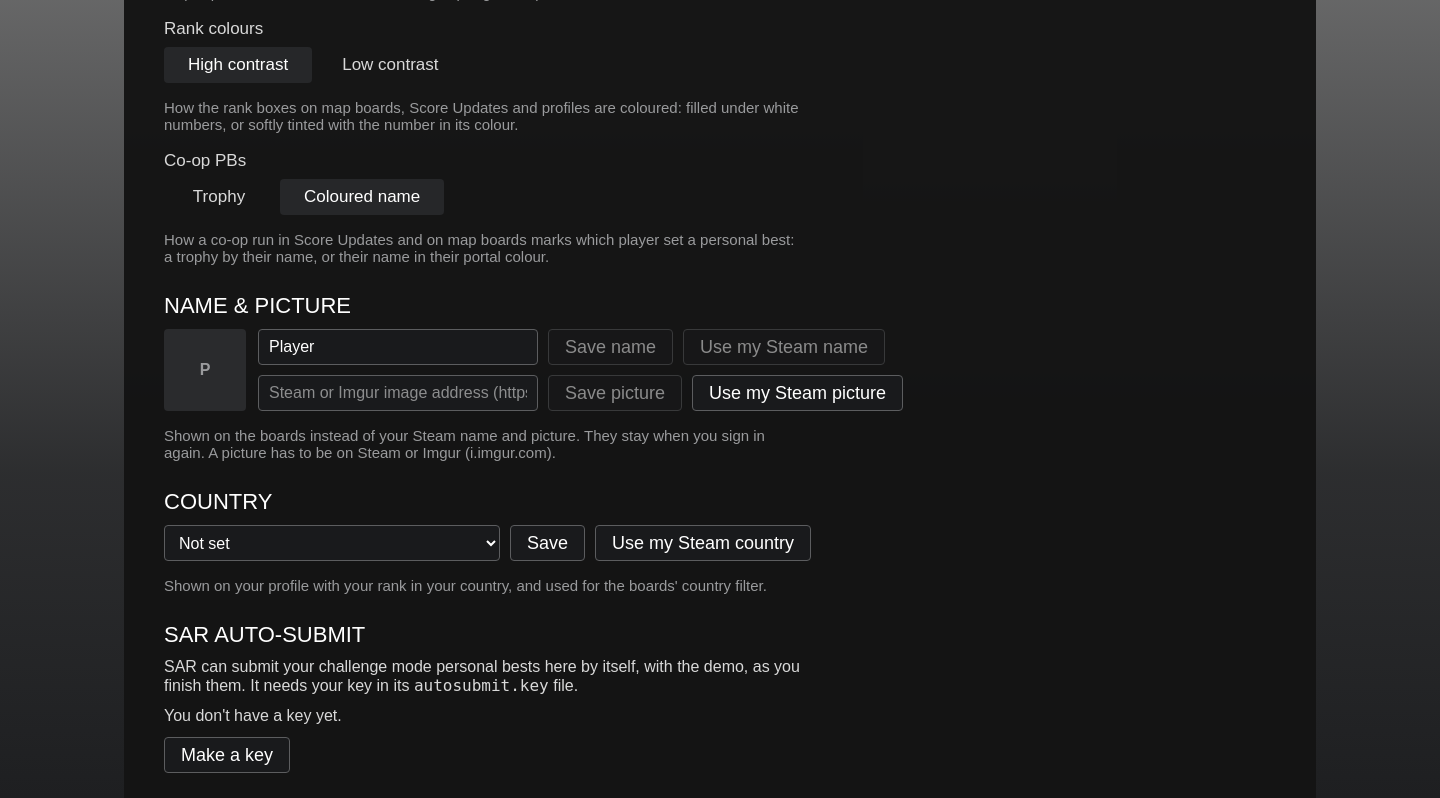
Test: Settings › sets the picture from an address or from Steam
(page scrolled)
In the field named "Picture address": (398, 393) [258,375,538,411], type "https://i.imgur.com/AbCd123.png"
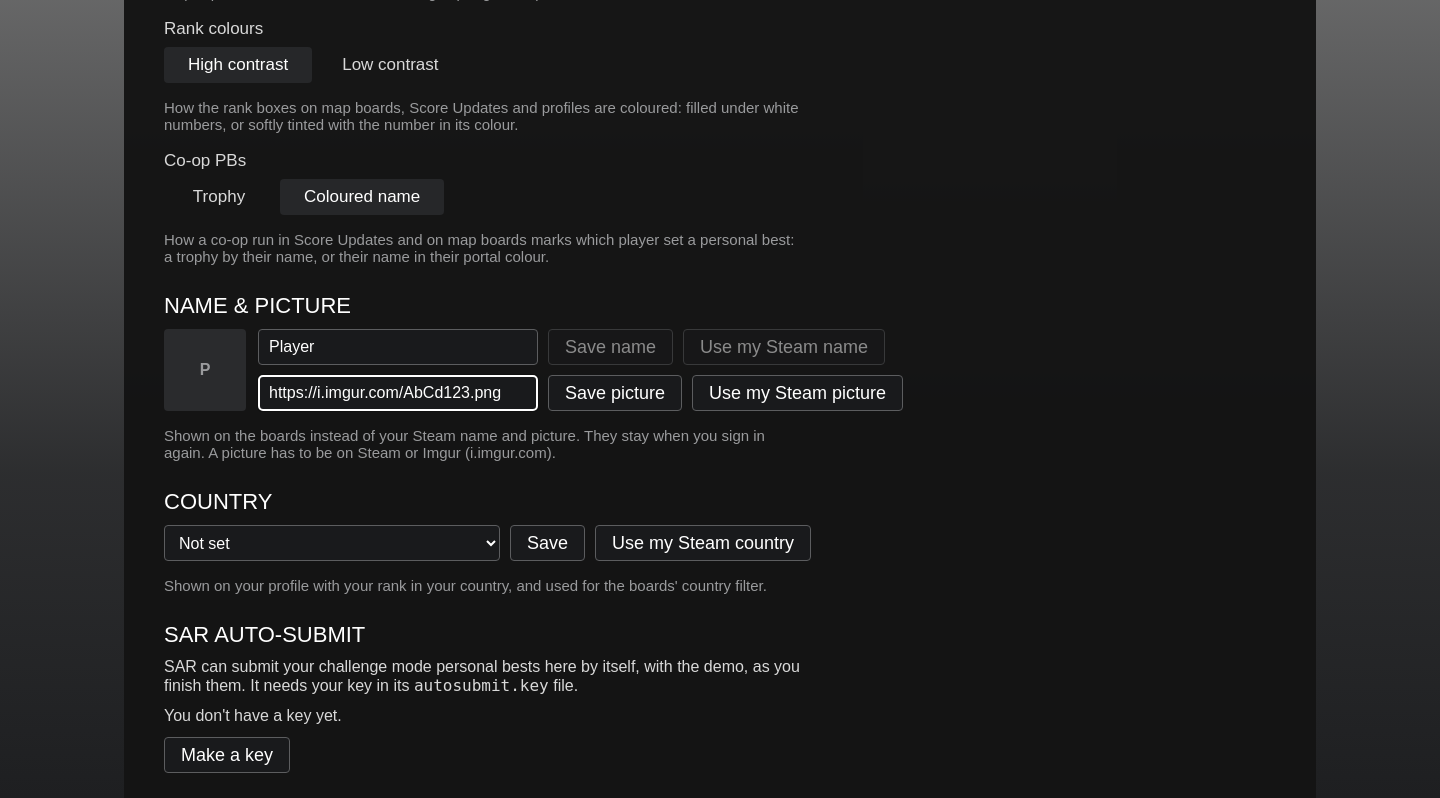
Click the button "Save picture": (615, 393) [548,375,682,411]
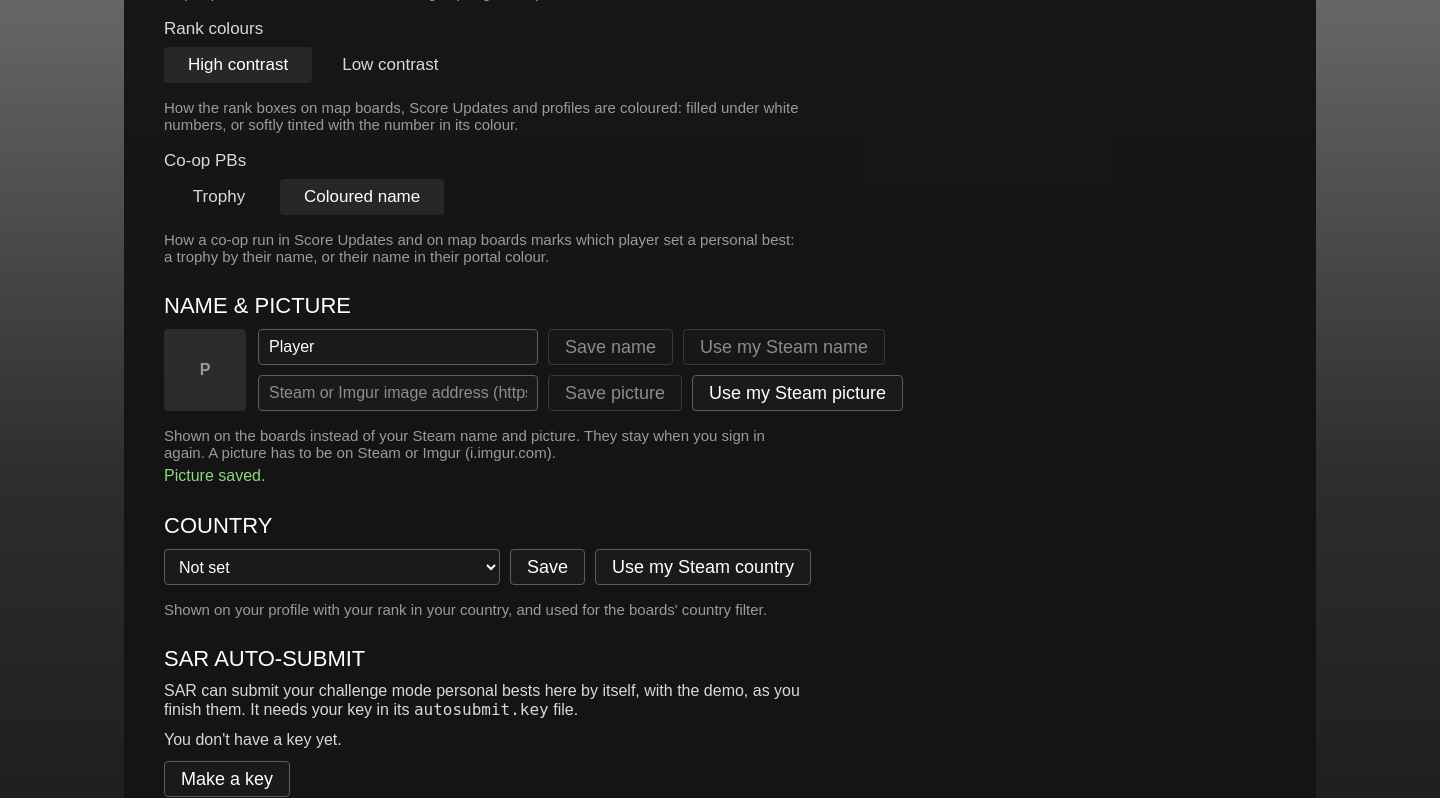
Expected: the text "Picture saved." is shown, [164,467,265,484]
Expected: the field named "Picture address" is empty, [258,375,538,411]
Click the button "Use my Steam picture": (798, 393) [692,375,903,411]
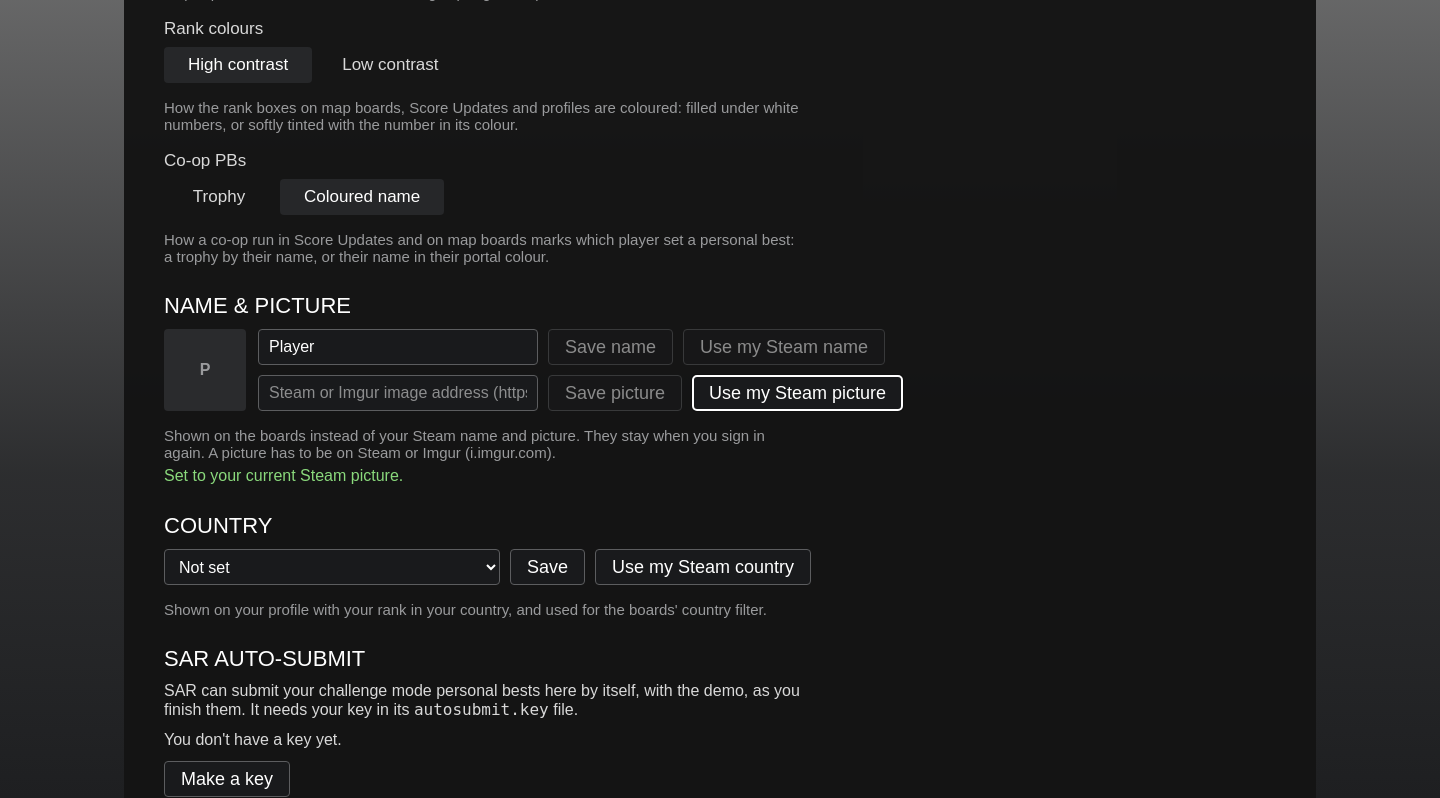
Expected: the text "Set to your current Steam picture." is shown, [164,467,403,484]
